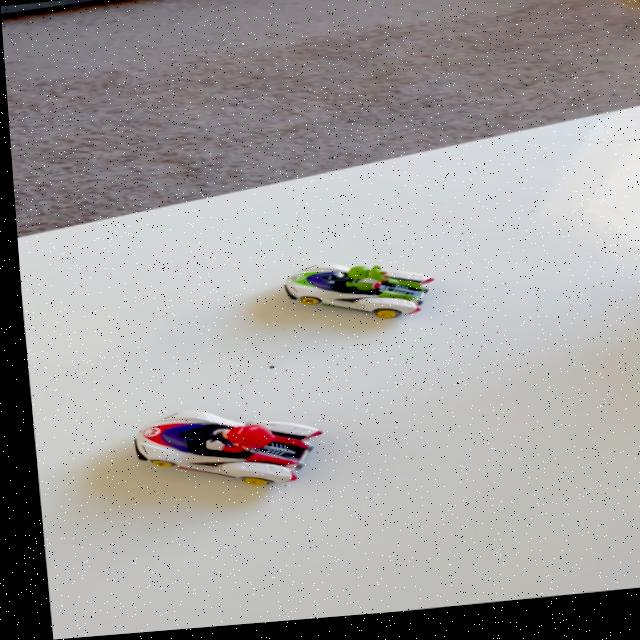mario: (103, 391, 336, 512)
yoshi: (266, 255, 449, 340)
